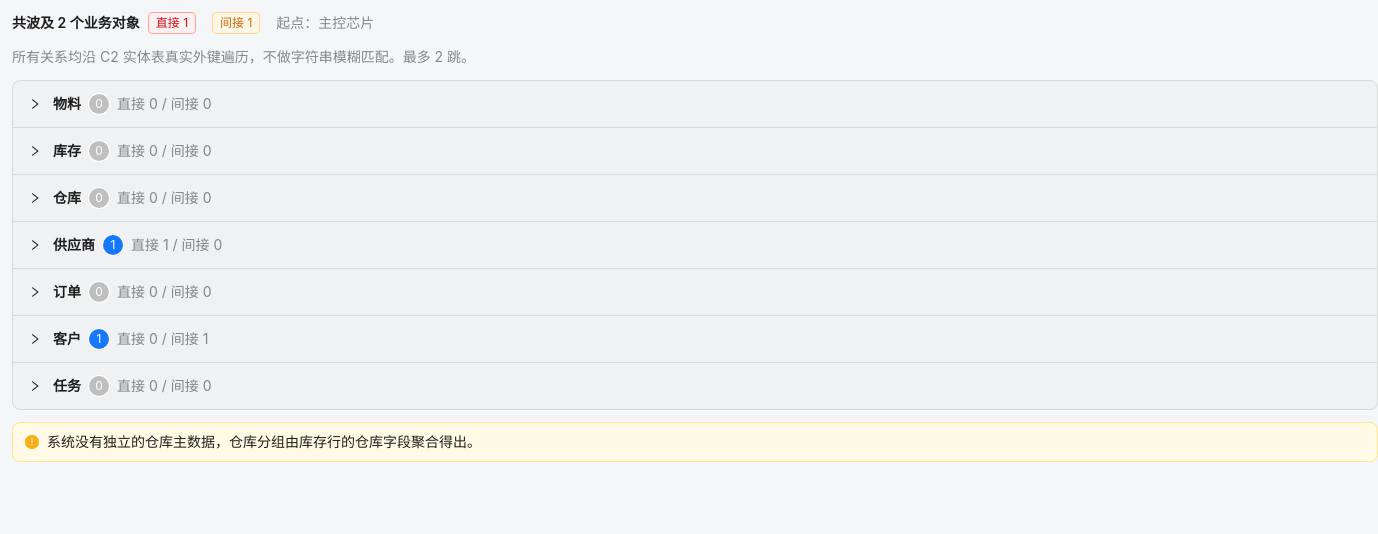
Test: A04 影响范围面板 › F2 空组渲染 emptyReason，而不是一张空表格
The image size is (1378, 534).
What coordinates should you click on to do the following:
click the button with test id "impact-scope-group-task"
I would click on:
 (120, 386)
Its box is [29, 376, 212, 396].
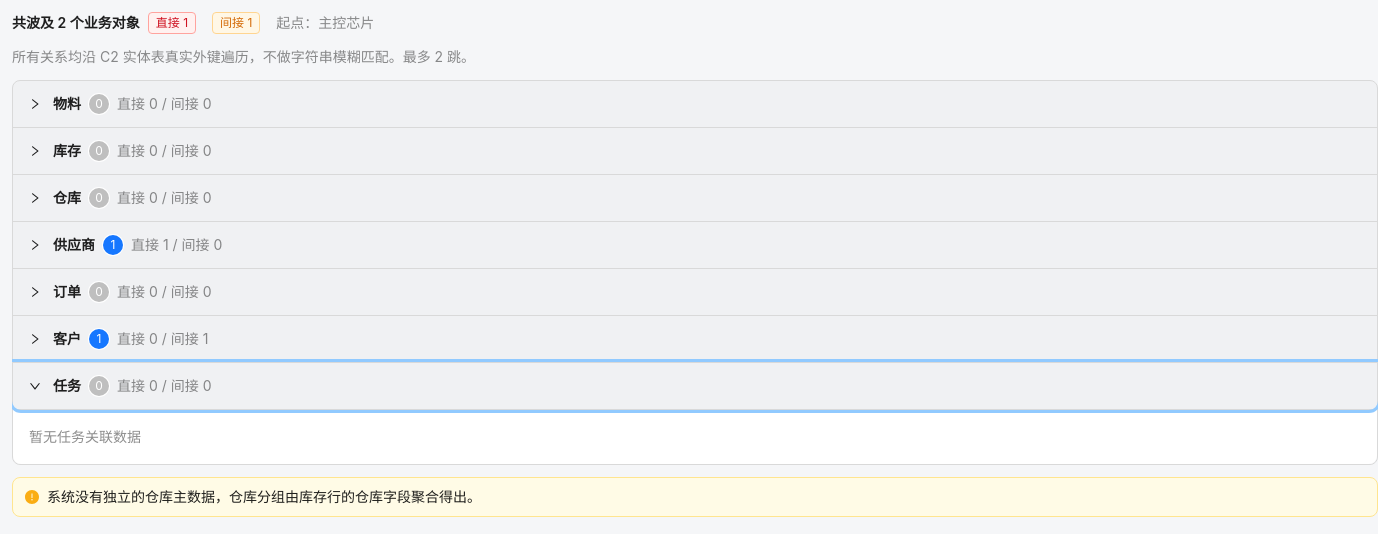
Expected: the text with test id "impact-scope-empty-task" reads "暂无任务关联数据", [29, 428, 141, 445]
